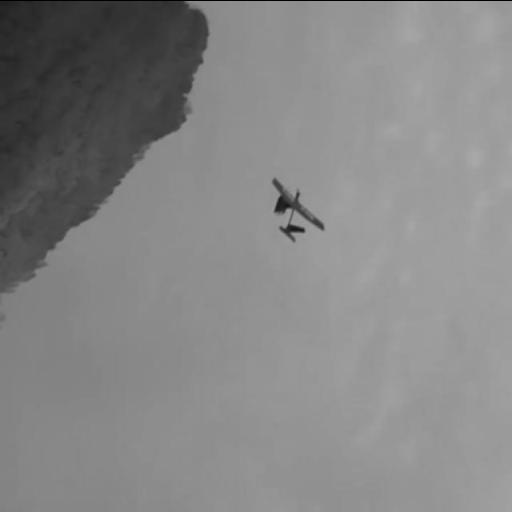uav: (270, 177, 324, 243)
